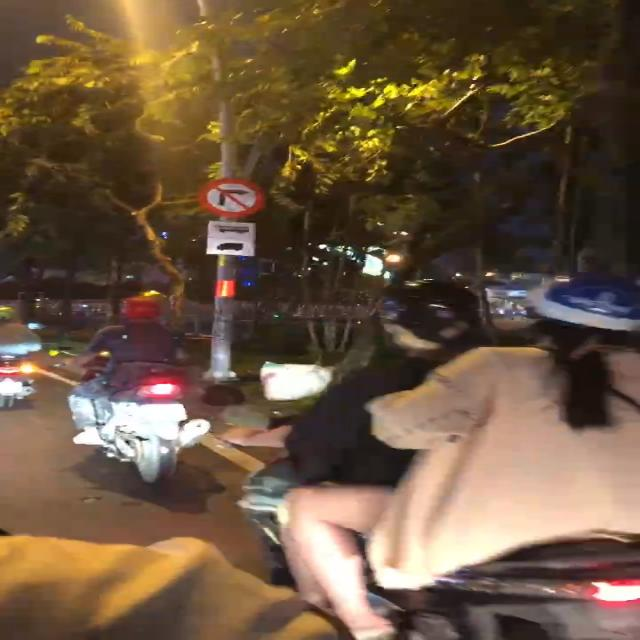Bien bao cam re phai: (201, 174, 267, 218)
